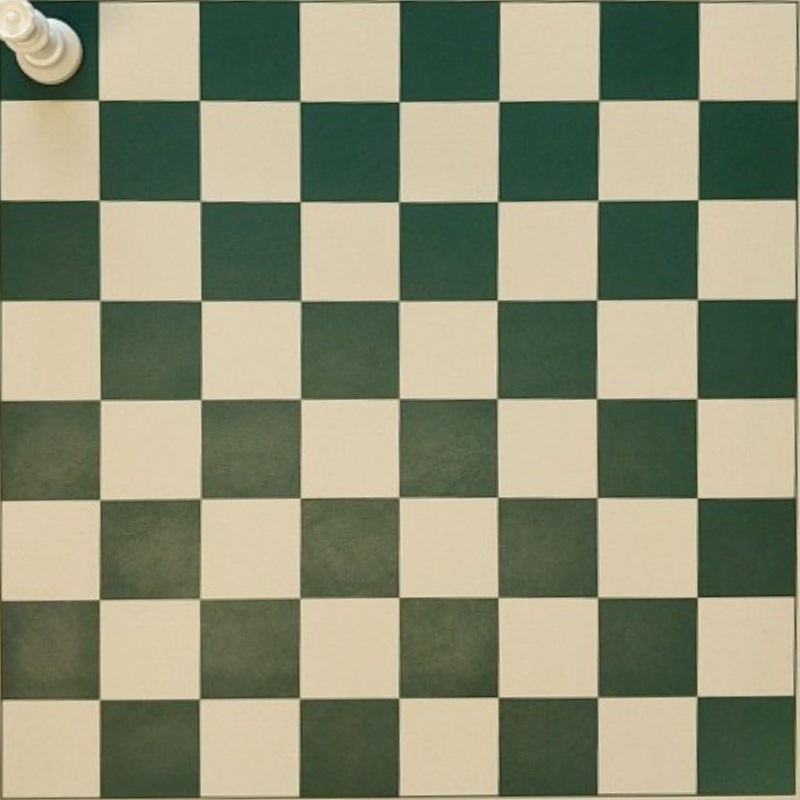white-queen: (0, 1, 83, 85)
